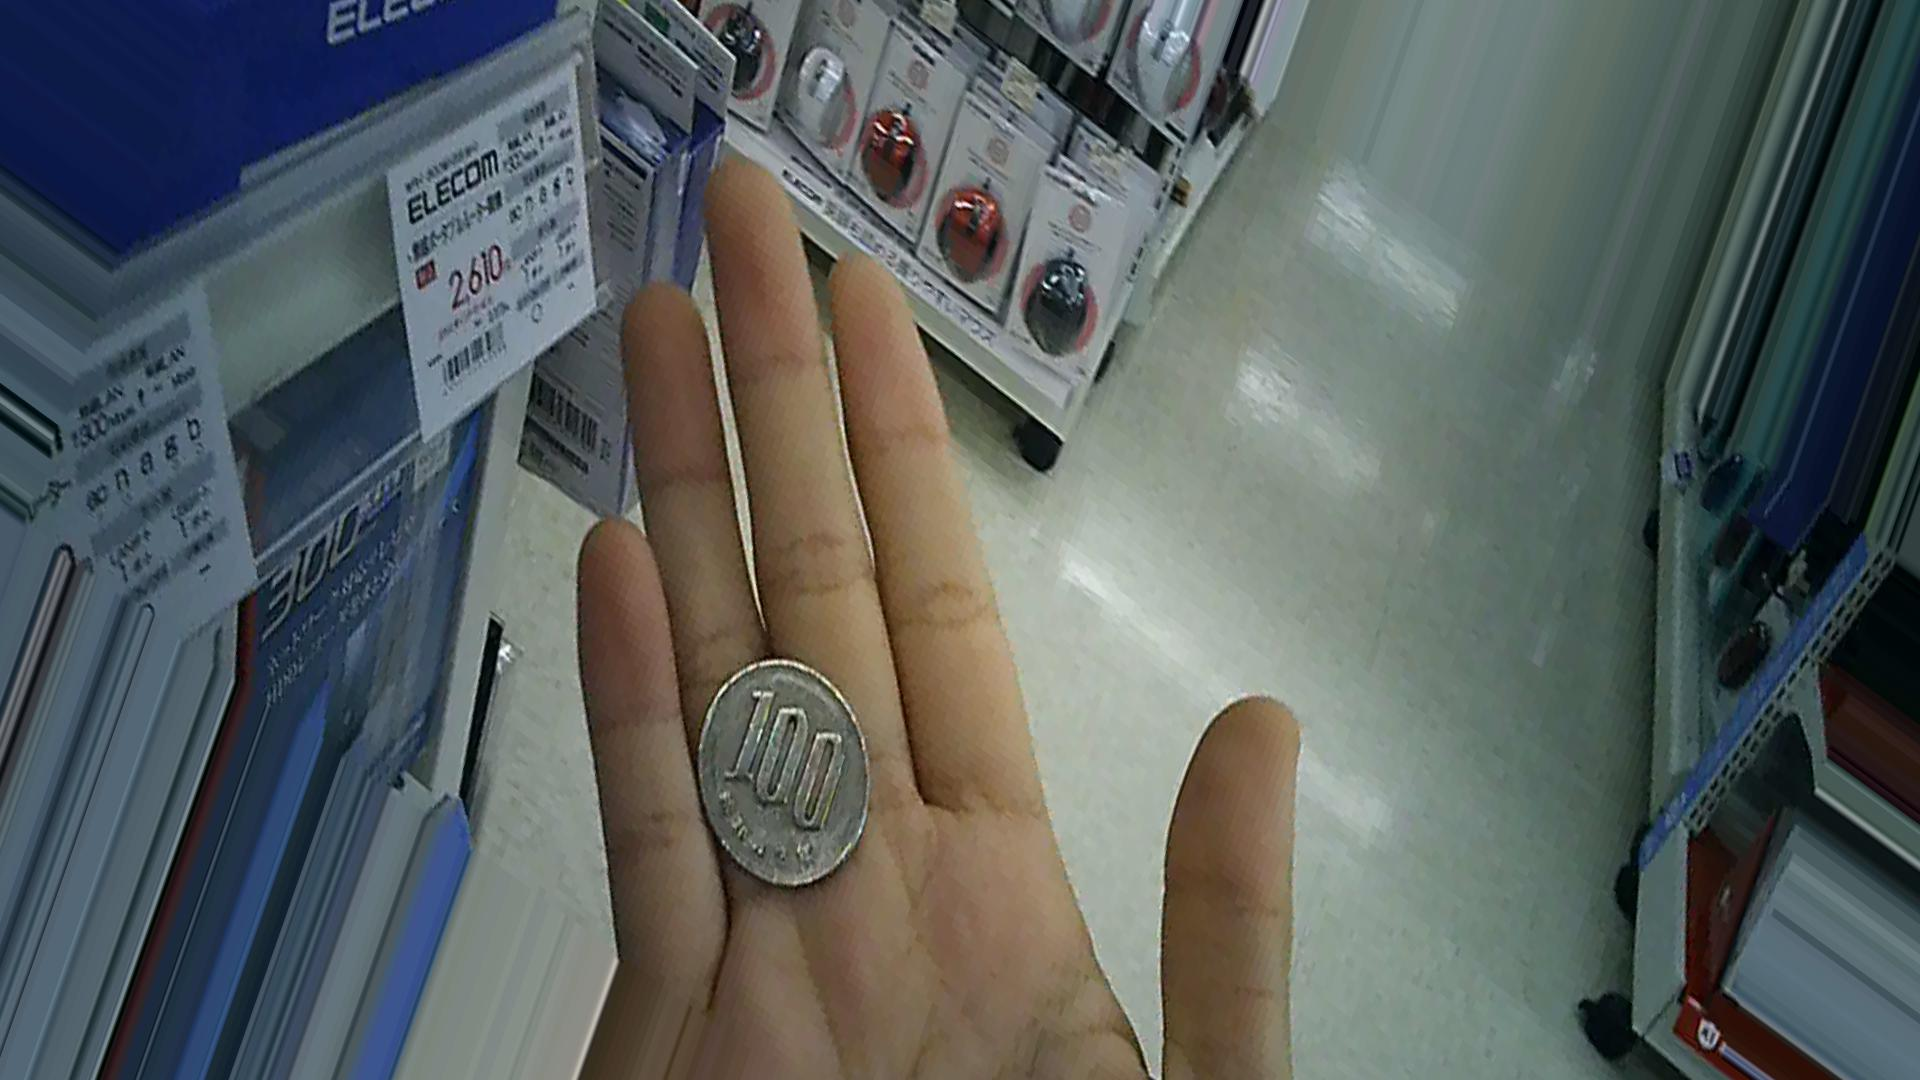100 Yen: (675, 647, 880, 913)
